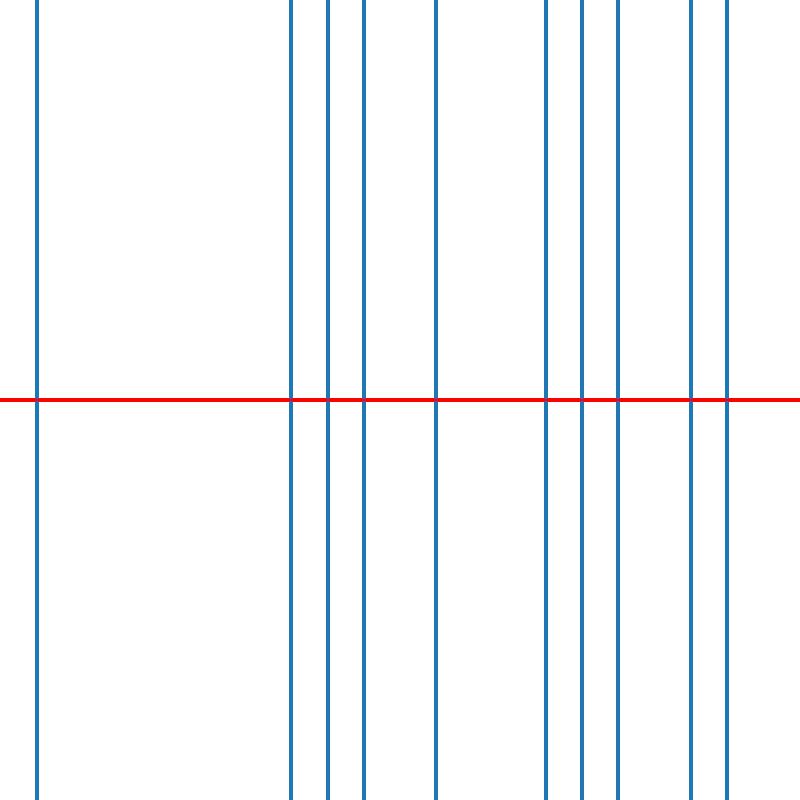root: (32, 396, 40, 404), (432, 396, 440, 404), (541, 396, 549, 404), (687, 396, 694, 404), (323, 396, 330, 404), (287, 396, 294, 404), (723, 396, 730, 404), (360, 396, 367, 404), (614, 396, 621, 404), (578, 396, 585, 404)
